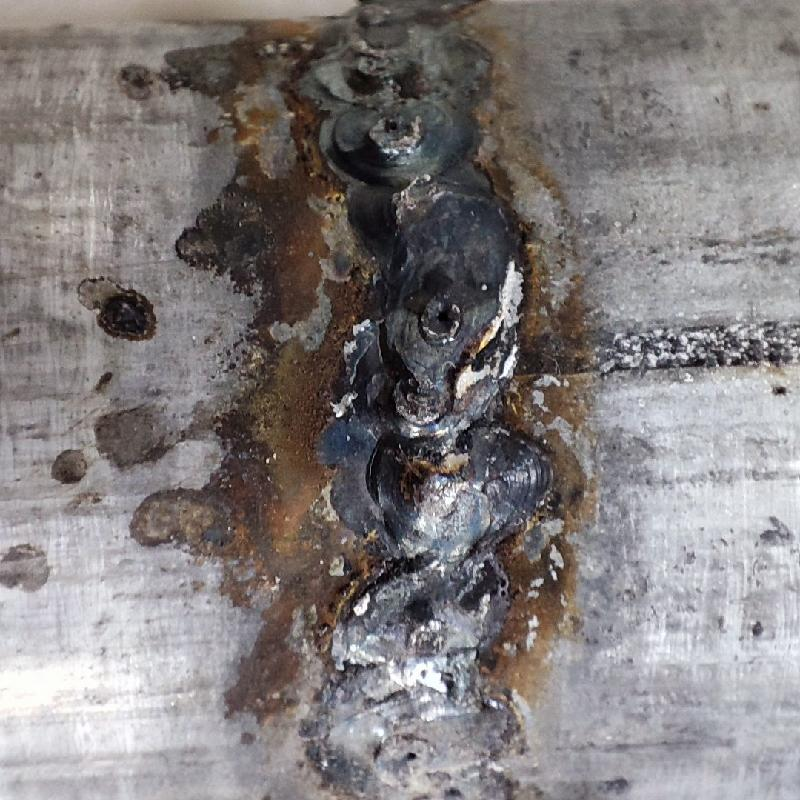Not_fully_soldered: (328, 540, 543, 799)
Surface_pores: (375, 735, 434, 782), (422, 292, 468, 350), (367, 109, 423, 151)
